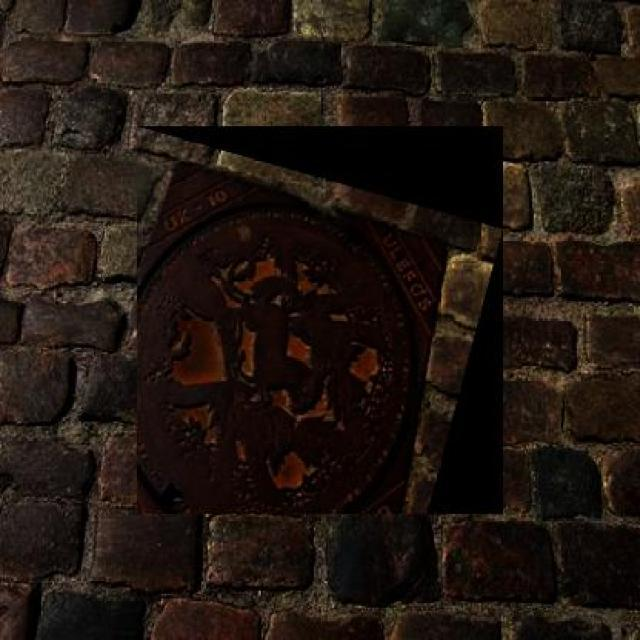Manhole: (138, 126, 504, 514)
